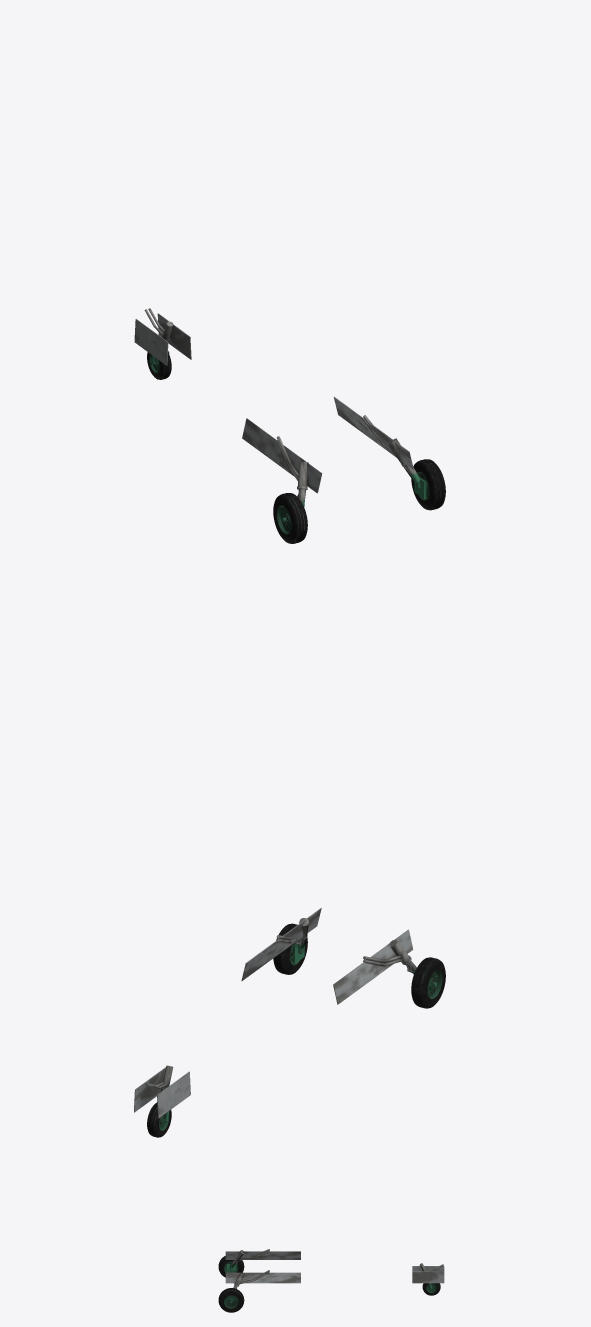
The model's file is e_yak38_gear.glb.
3 views of the same model, one above another, from view 1: azimuth 30°, elevation 25°; view 2: azimuth 150°, elevation 25°; view 3: azimuth 270°, elevation 25° (orthographic). The views are drawn at different scales.
Visible parts, largest first — view 1: body|YK_paint; view 2: body|YK_paint; view 3: body|YK_paint.
Boxes of the visible parts, bbox=[...] form: body|YK_paint: bbox=[134, 308, 445, 543]; body|YK_paint: bbox=[134, 908, 445, 1137]; body|YK_paint: bbox=[218, 1249, 444, 1312].
Bounding box in the file's own units: 2.77 × 4.46 × 17.66.
1 material, 1 textured.
